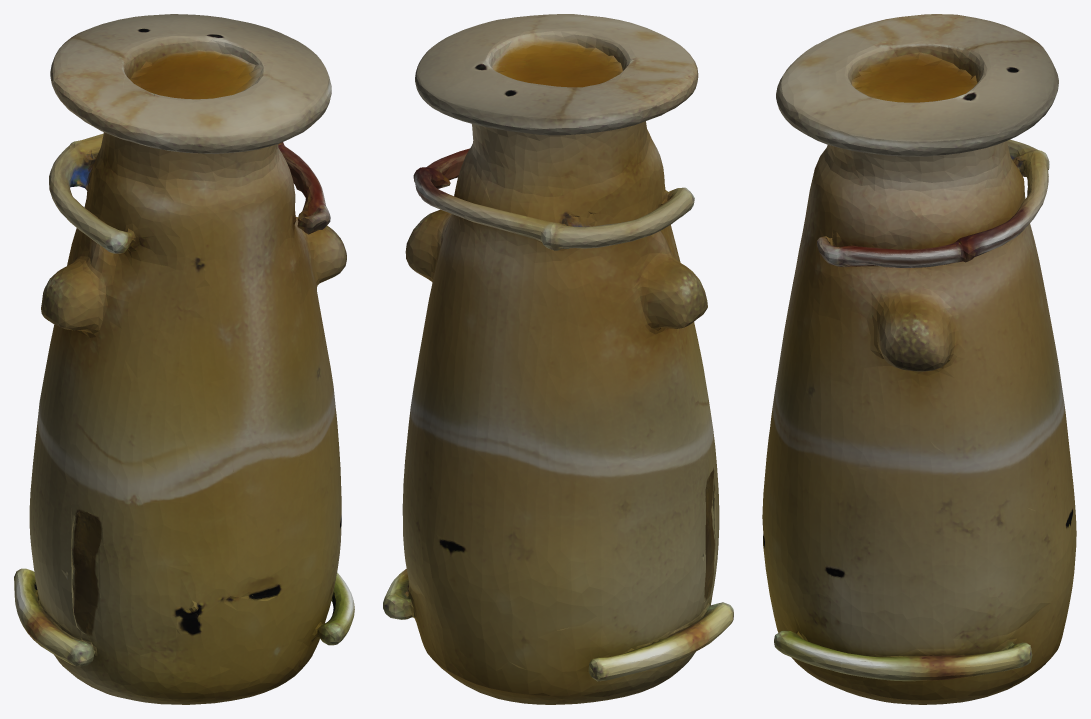
The model's file is alabastron.glb.
3 renders of one model, left to right at view 1: azimuth 30°, elevation 25°; view 2: azimuth 150°, elevation 25°; view 3: azimuth 270°, elevation 25°, orthographic.
Parts seen in each view (by area): view 1: world; view 2: world; view 3: world.
Boxes of the visible parts, x1,y1,x2,y2 form: world: (14,14,354,704); world: (383,14,733,704); world: (762,14,1076,704).
Size of the model in its own units: 0.4916 by 0.9983 by 0.4493.
1 material, 1 textured.
